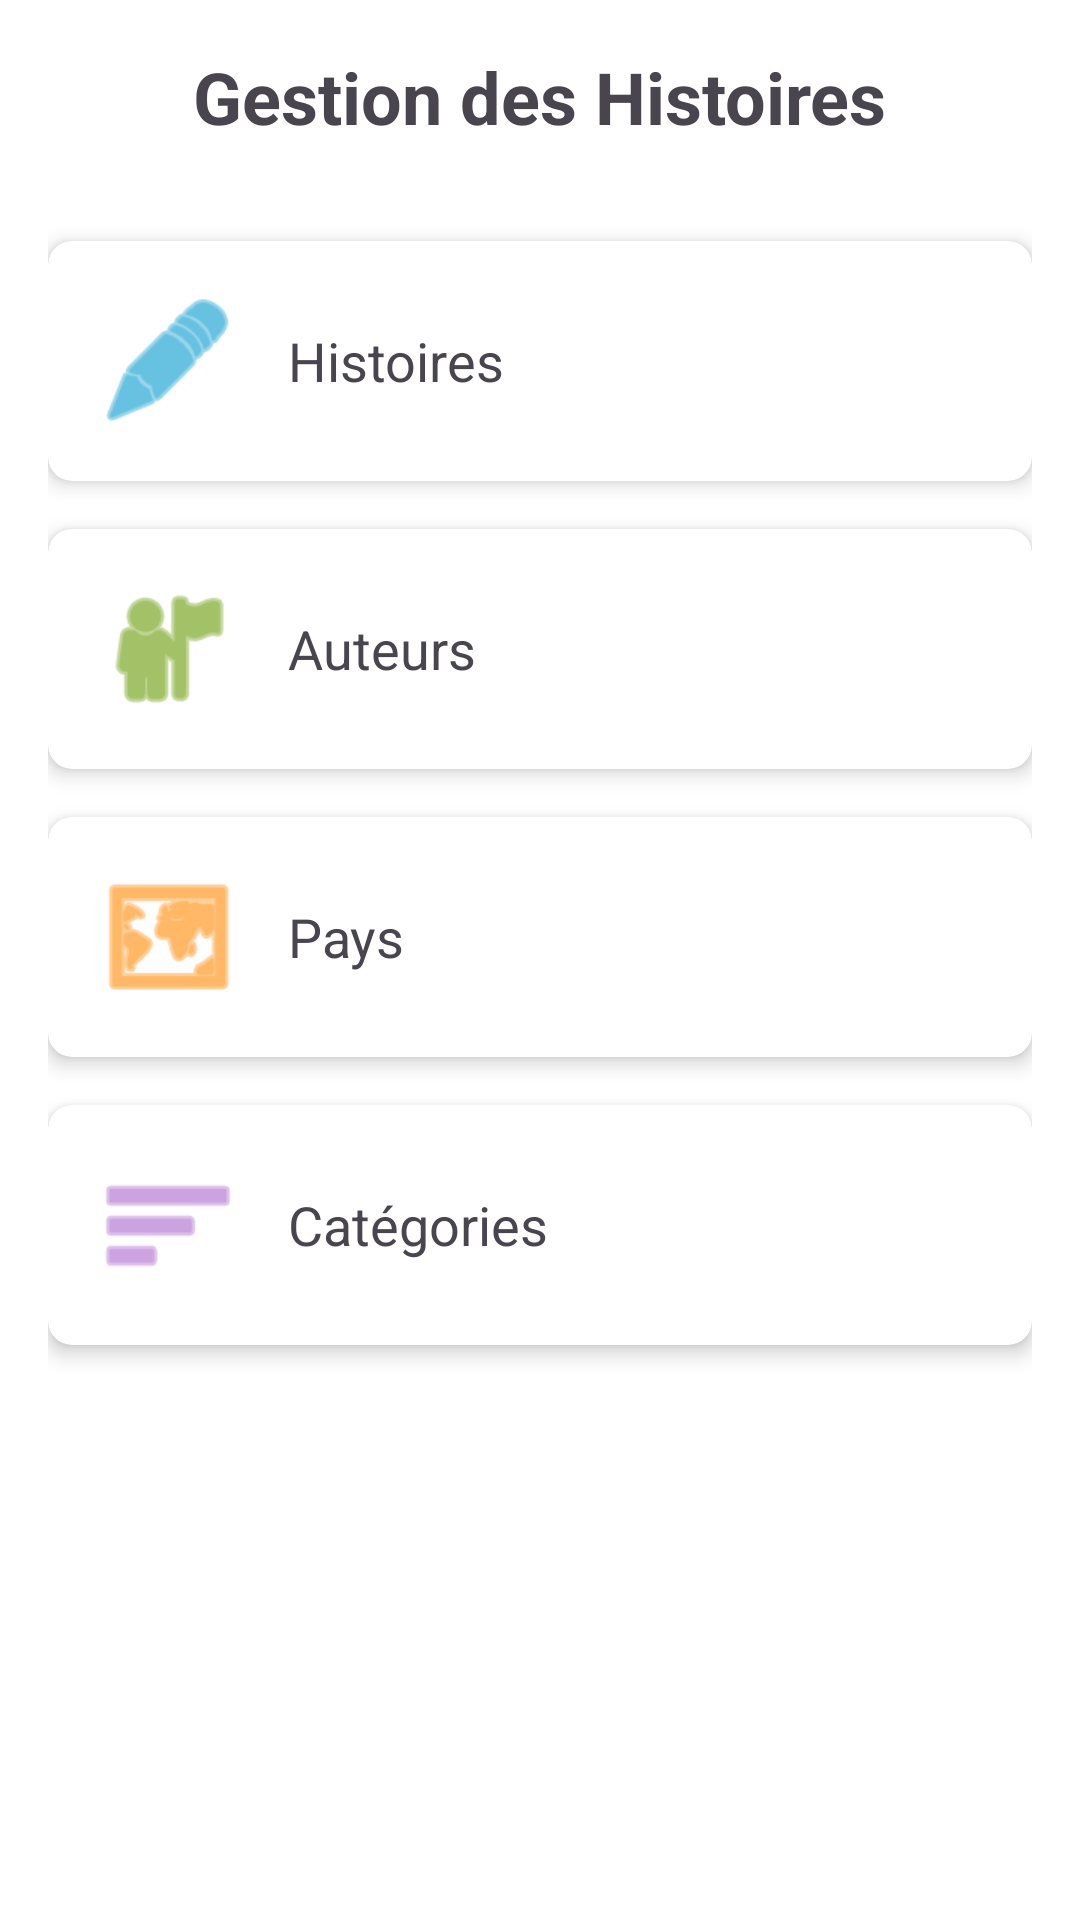

Locate icon controls on the screen. Image size 1080 x 1920, boxes as BBox(x1, y1, x2, y2).
edit: BBox(106, 299, 228, 421)
mapmode: BBox(109, 884, 229, 990)
myplaces: BBox(115, 595, 224, 703)
sort by size: BBox(106, 1186, 230, 1266)
